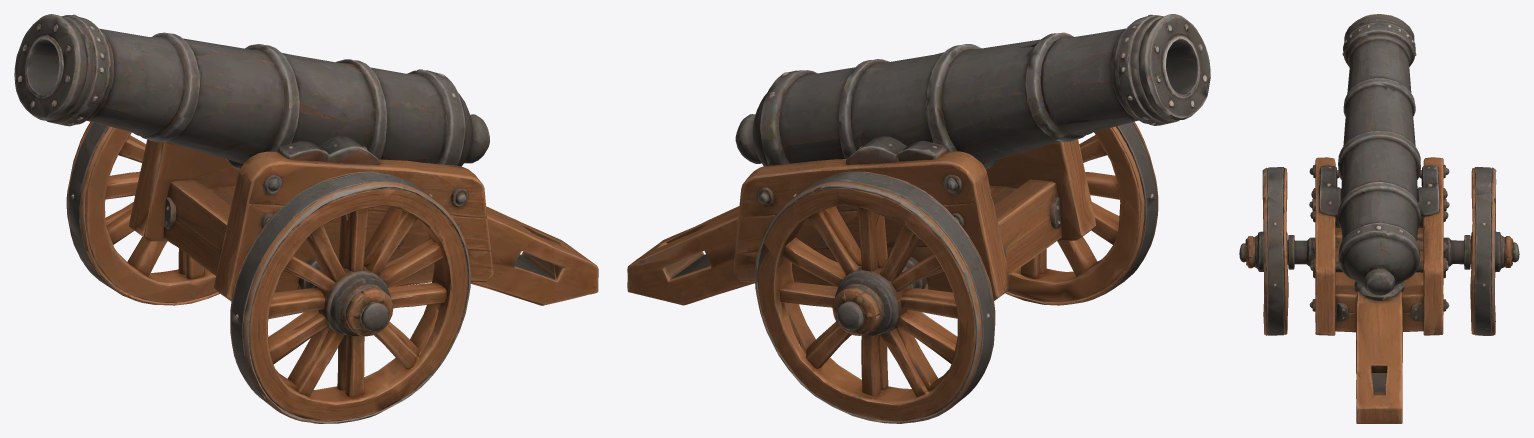
The model's file is upm_mu5vzqqc2cq.glb.
The picture shows the model from 3 angles, left to right: view 1: azimuth 30°, elevation 25°; view 2: azimuth 150°, elevation 25°; view 3: azimuth 270°, elevation 25°; orthographic projection. The views are drawn at different scales.
Size of the model in its own units: 1.9 by 1.28 by 1.31.
1 material, 1 textured.
